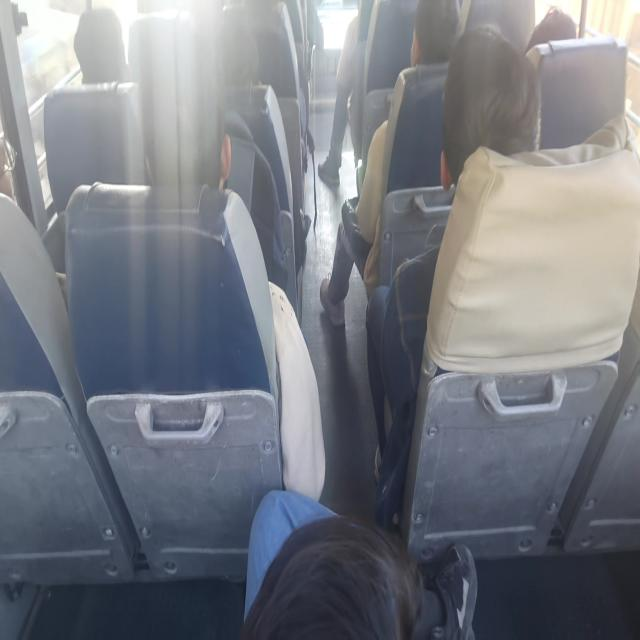person: (228, 506, 426, 640), (135, 30, 221, 193), (444, 37, 534, 191), (59, 13, 129, 94), (399, 9, 457, 77), (212, 15, 262, 85), (513, 6, 575, 58), (0, 116, 27, 206)
